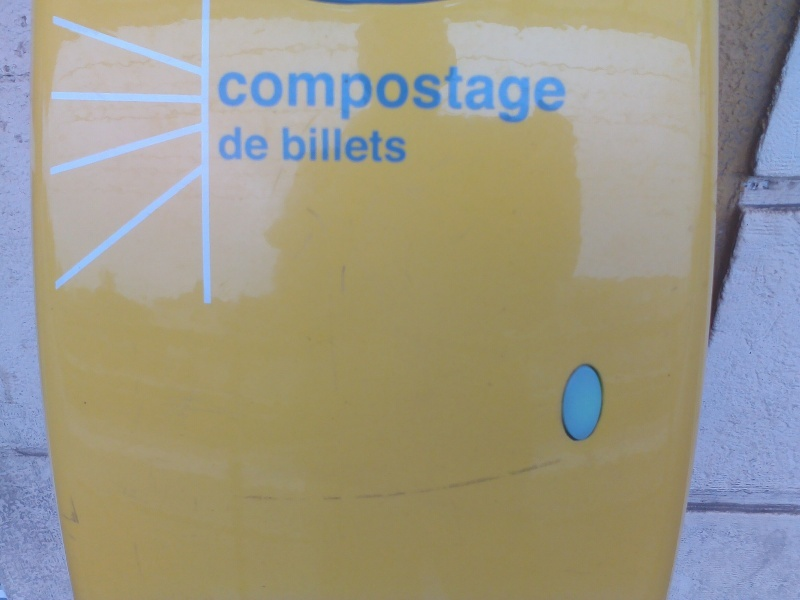text: (225, 64, 240, 125), (241, 64, 256, 125), (257, 64, 272, 125), (273, 64, 288, 125), (289, 64, 304, 125), (305, 64, 320, 125), (321, 64, 336, 125), (337, 64, 352, 125), (353, 64, 368, 125), (369, 64, 384, 125), (385, 64, 400, 125), (401, 64, 416, 125), (417, 64, 432, 125), (433, 64, 448, 125), (449, 64, 464, 125), (465, 64, 480, 125), (481, 64, 496, 125), (497, 64, 512, 125), (513, 64, 528, 125), (529, 64, 544, 125), (545, 64, 560, 125), (289, 126, 304, 164), (305, 126, 320, 164), (321, 126, 336, 164), (337, 126, 352, 164), (353, 126, 368, 164), (369, 126, 384, 164), (385, 126, 400, 164), (225, 126, 240, 161), (241, 126, 256, 161), (561, 64, 569, 125), (257, 126, 268, 161), (218, 64, 224, 125), (401, 126, 407, 164), (218, 126, 224, 161), (283, 126, 288, 164)
